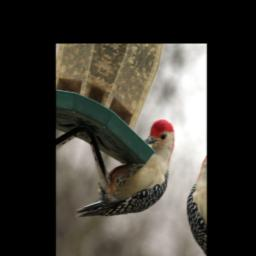Woodpecker: (71, 91, 183, 256)
